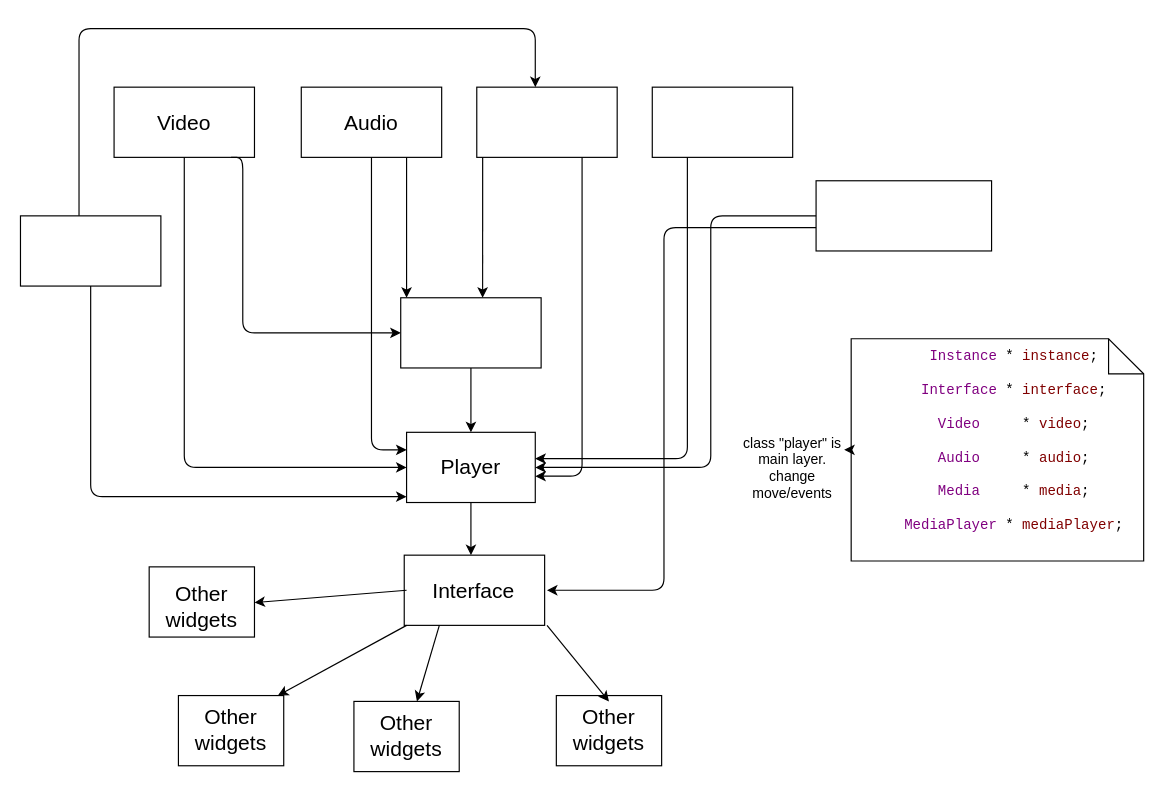
This 1164x798 diagram has some shape labels left out. Here are the shapes that lost their labels. From the top down, the centre of each, then its label:
At point 546,121: "Instance".
At point 722,121: "Media".
At point 903,215: "Events Emitter".
At point 90,250: "Filters".
At point 470,332: "MediaPlayer".
